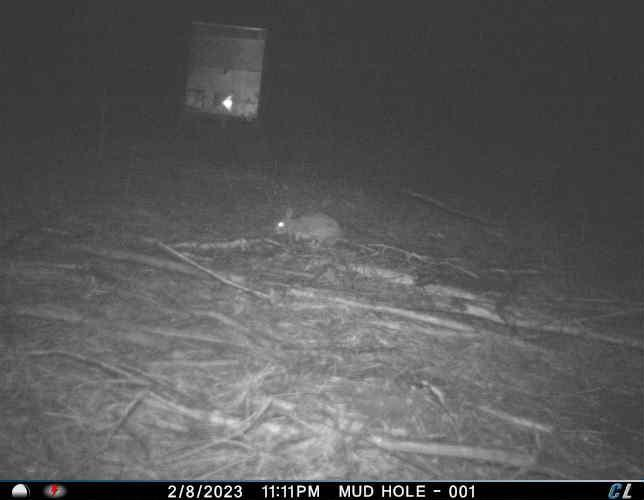Rabbit: (274, 202, 341, 248)
